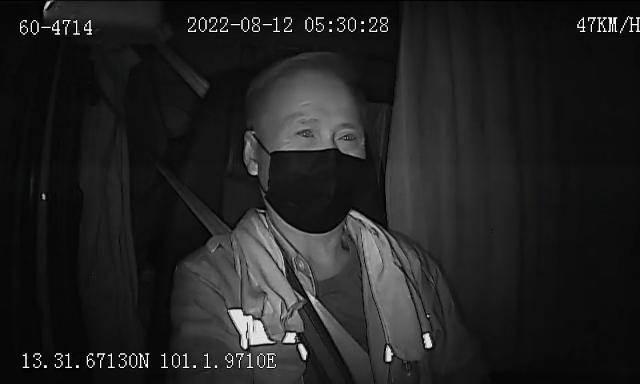SafeDriving: (331, 124, 364, 150), (288, 121, 322, 143)
Seatbelt: (153, 160, 380, 384)
